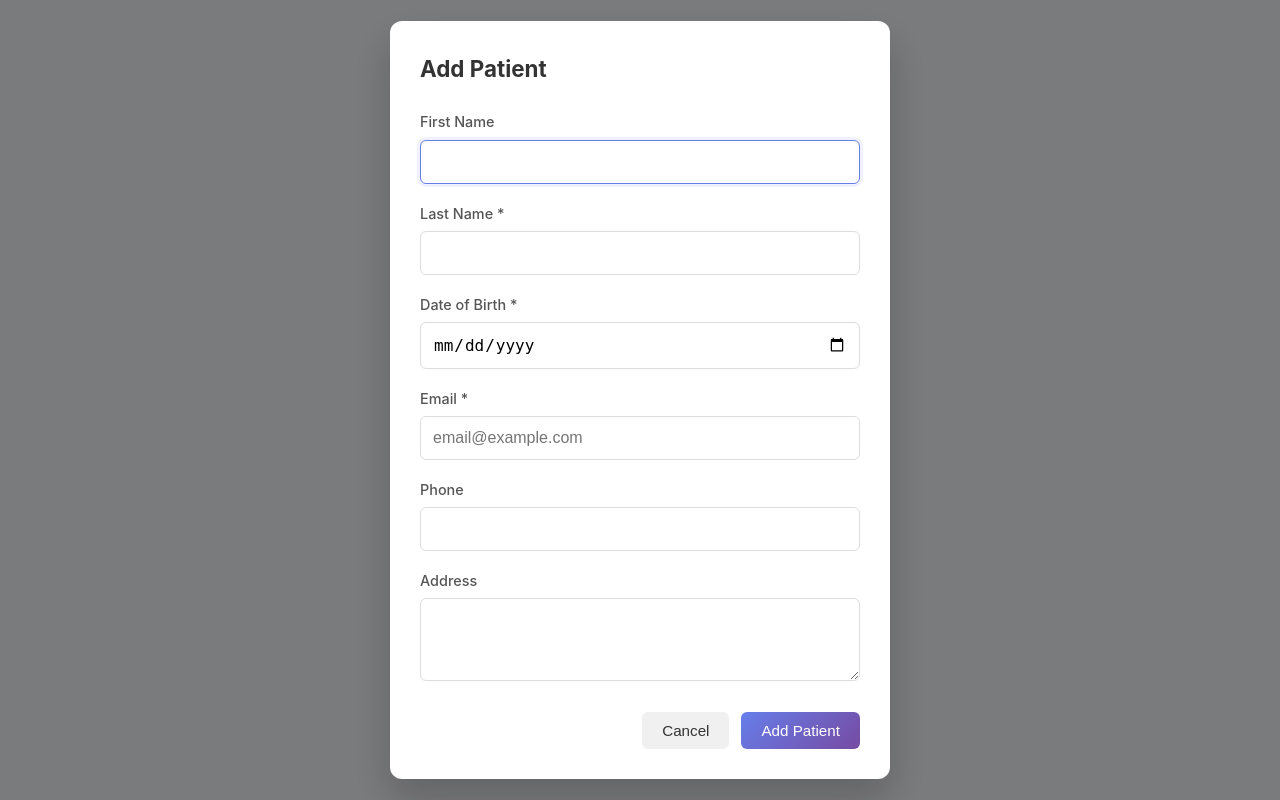
Test: PatientForm › shows validation errors for required fields
The image size is (1280, 800).
Step 1. Click the button "Add Patient" → x=801, y=731, box [742, 712, 860, 749]
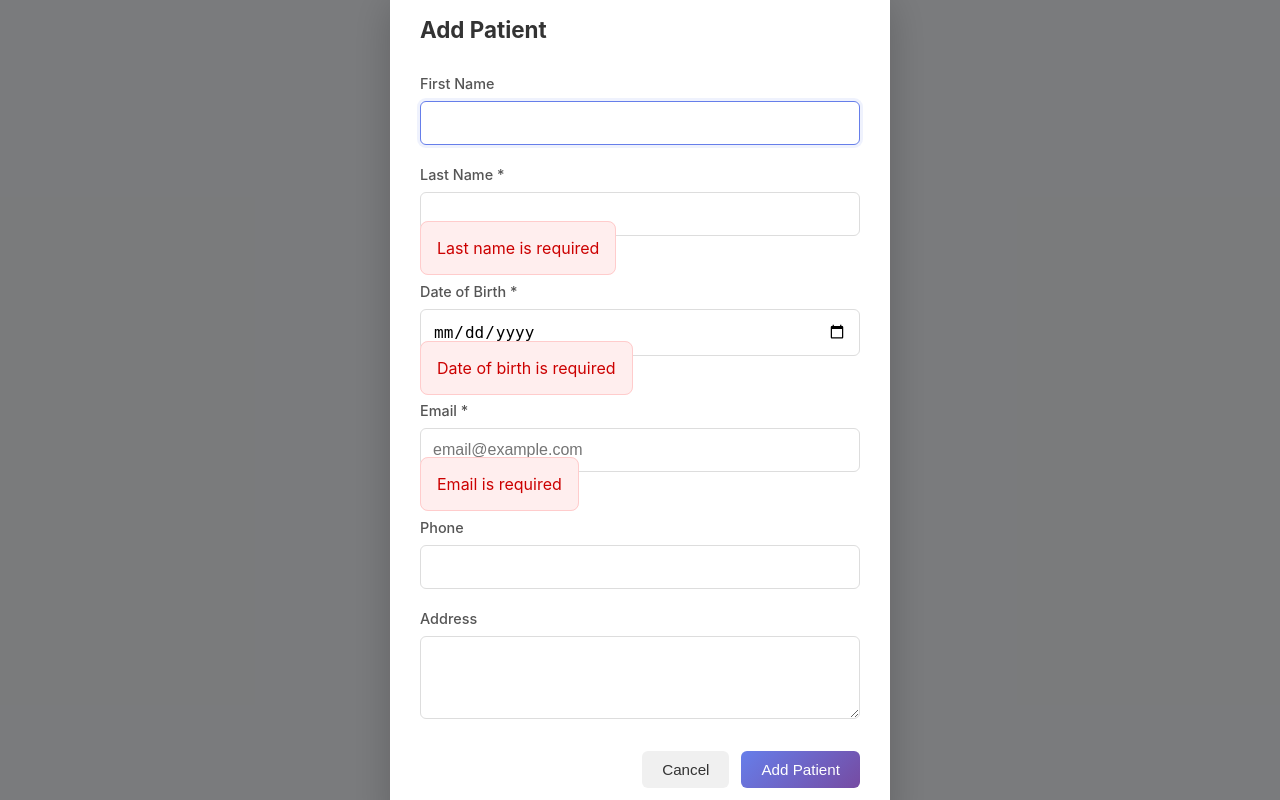
Now the text "Last name is required" is shown, box [420, 221, 616, 275]
Now the text "Date of birth is required" is shown, box [420, 341, 632, 395]
Now the text "Email is required" is shown, box [420, 458, 579, 512]
